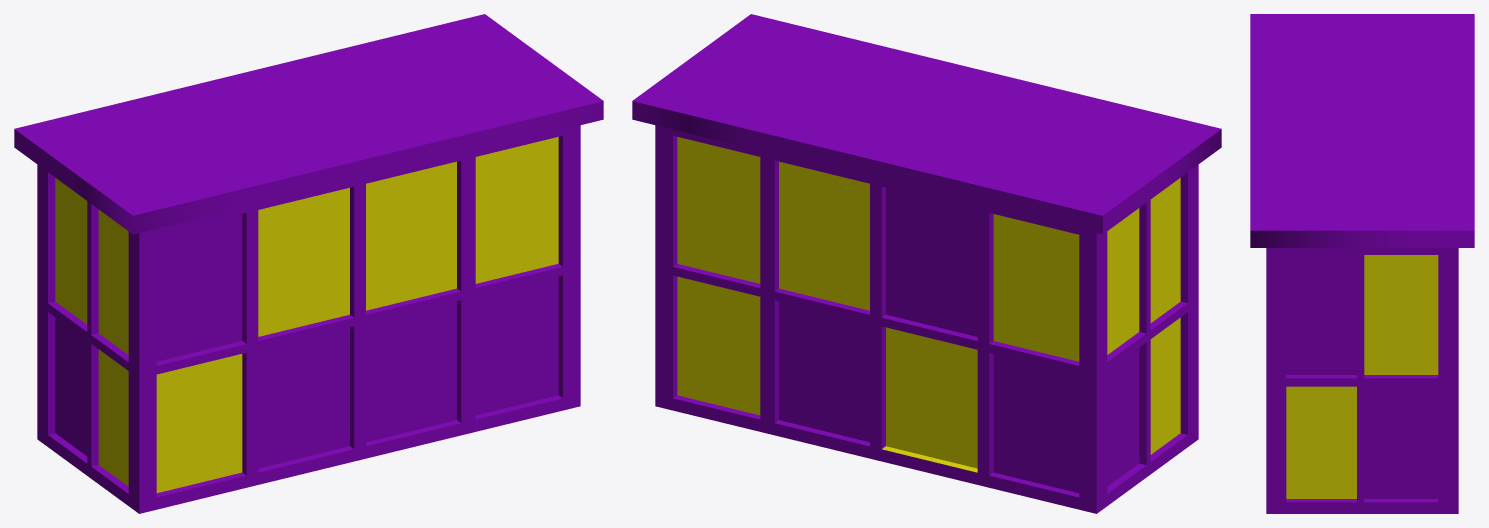
Rendered from Building_Large_Side_003.fbx.
The picture shows the model from 3 angles, left to right: view 1: azimuth 30°, elevation 25°; view 2: azimuth 150°, elevation 25°; view 3: azimuth 270°, elevation 25°; orthographic projection. The views are drawn at different scales.
Visible parts, largest first — view 1: Building_Large_Side_003; view 2: Building_Large_Side_003; view 3: Building_Large_Side_003.
Boxes of the visible parts, <box> form: Building_Large_Side_003: <box>14,14,603,513</box>; Building_Large_Side_003: <box>632,14,1221,513</box>; Building_Large_Side_003: <box>1250,14,1474,513</box>.
Bounding box in the file's own units: 6400 × 4000 × 2800.
